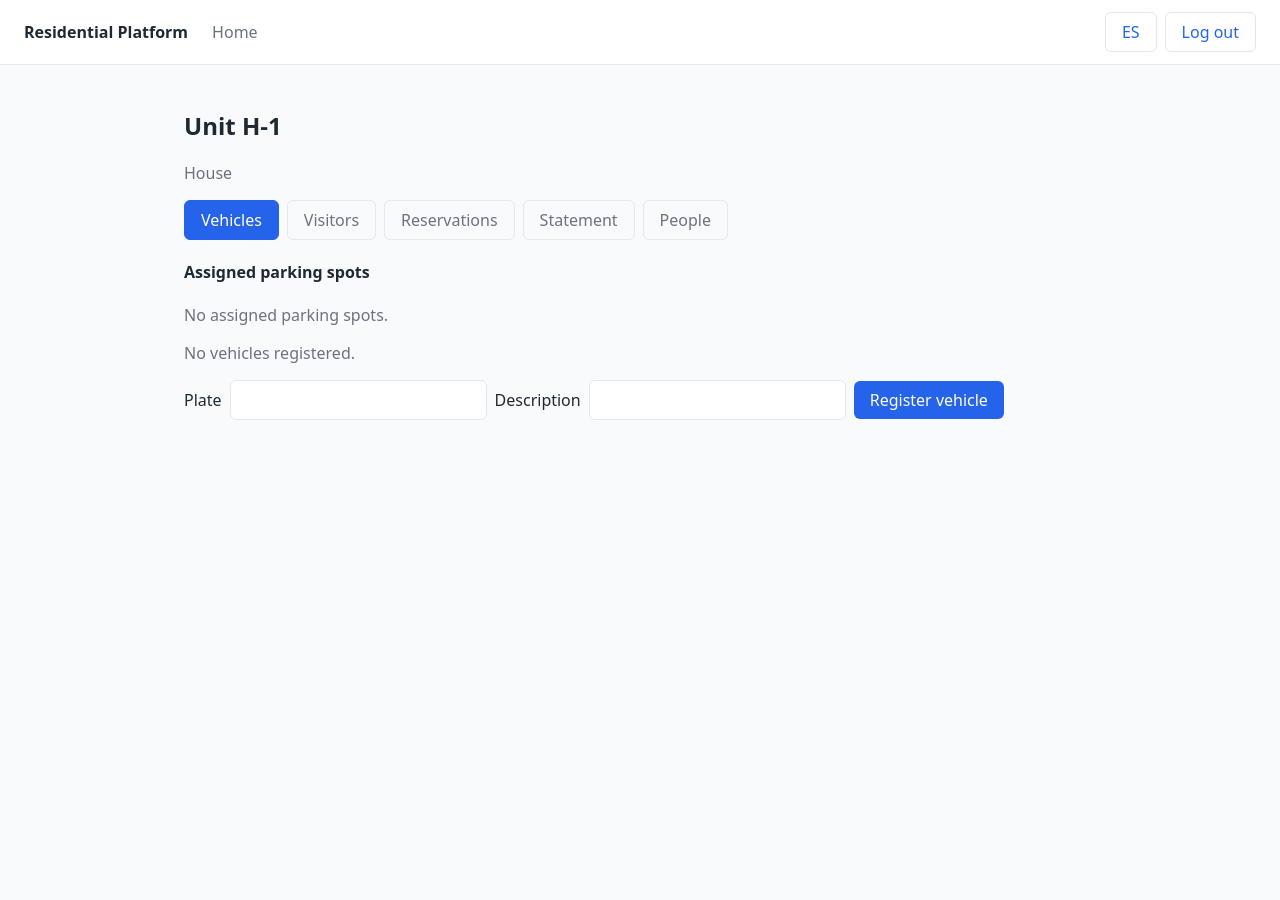
Test case: unit page › books an area slot
Click the tab "Reservations" at (449, 220), box [384, 200, 515, 240]
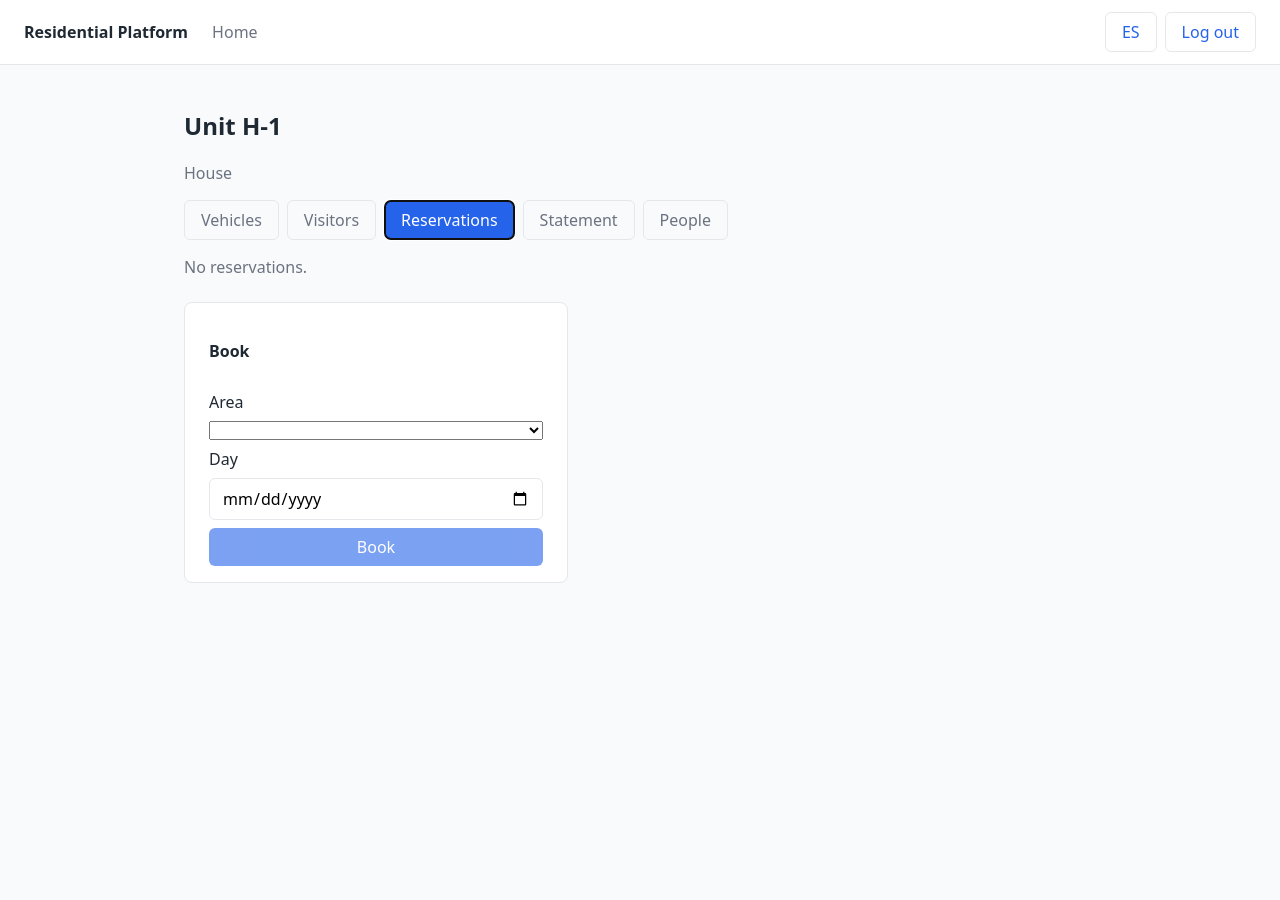
Select "Pool · GTQ 50.00" in the dropdown labelled "Area" at (376, 431), box [209, 421, 543, 440]
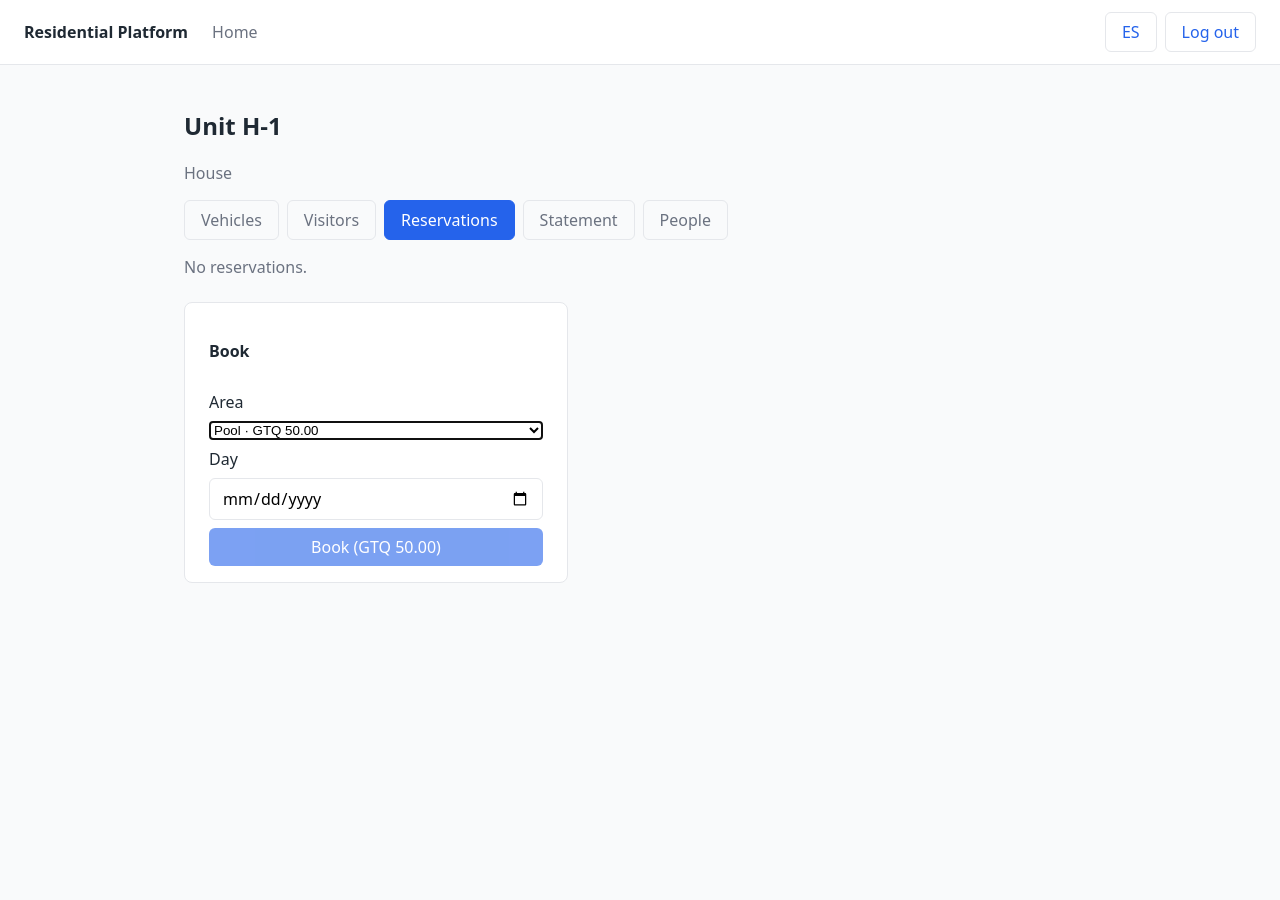
Type "2026-07-20" into the date field labelled "Day" at (376, 499), box [209, 478, 543, 520]
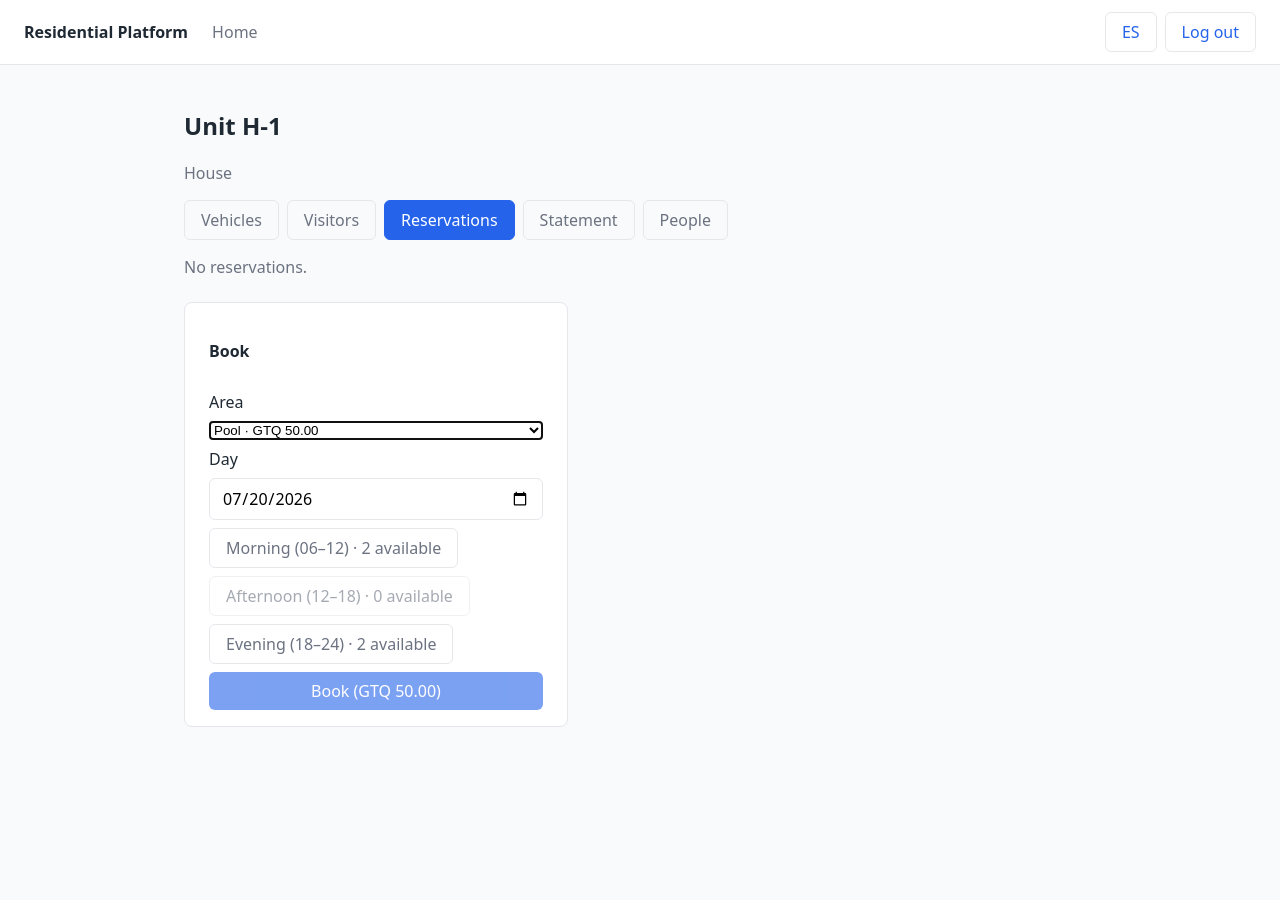
Now the radio button labelled "Afternoon (12–18) · 0 available" is disabled, box [209, 576, 470, 616]
Click the radio button labelled "Morning (06–12) · 2 available" at (334, 548), box [209, 528, 458, 568]
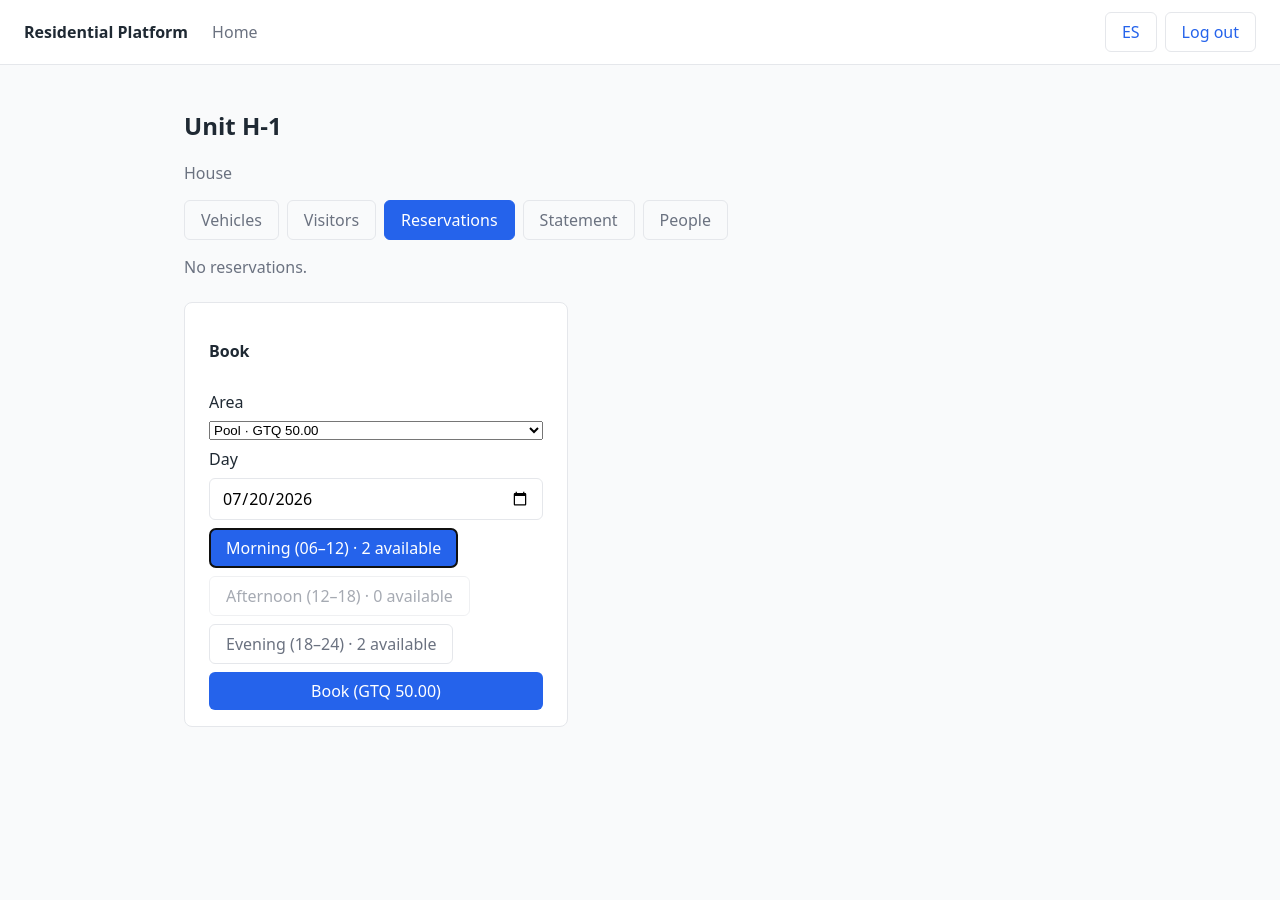
Click the button "Book (GTQ 50.00)" at (376, 691), box [209, 672, 543, 710]
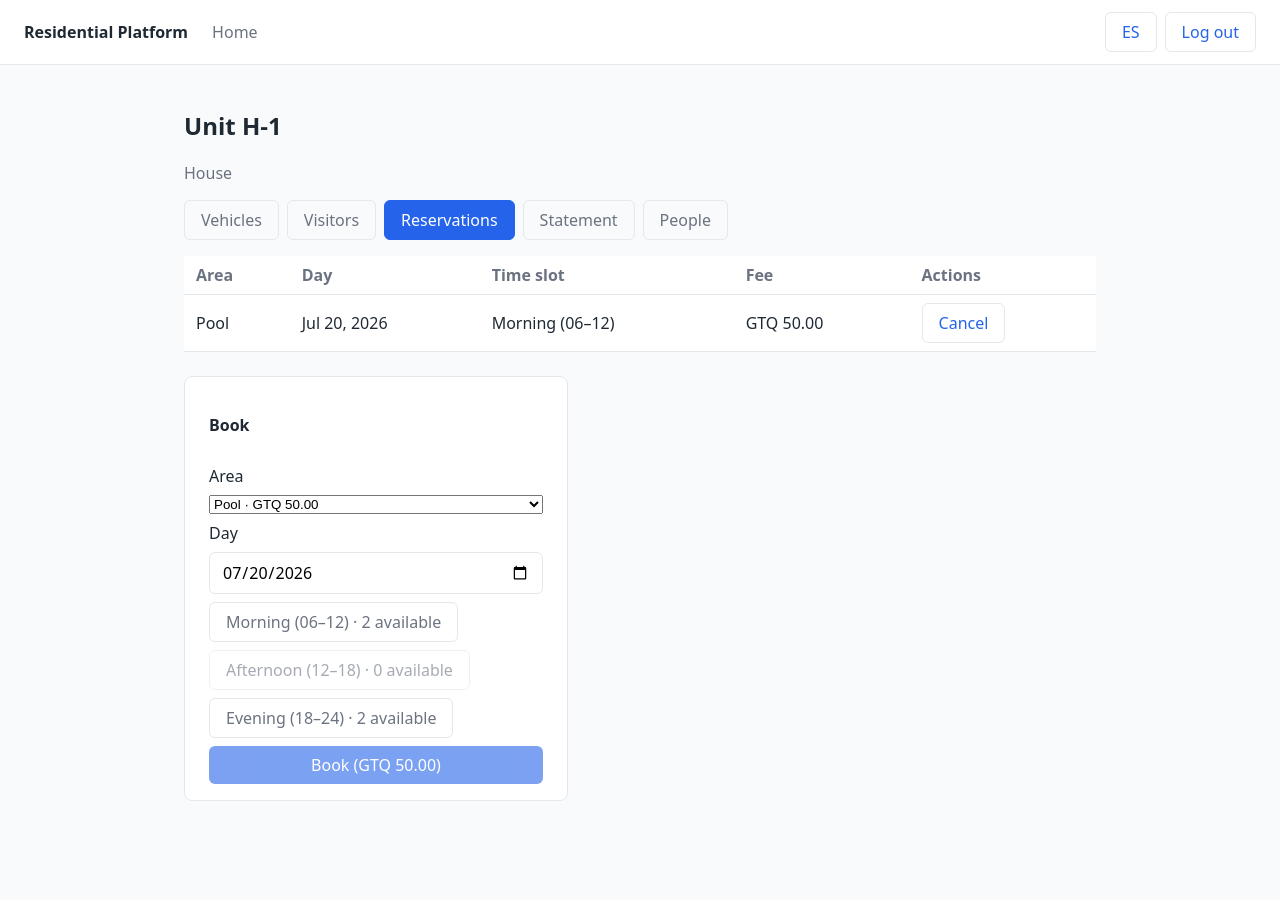
Now the text "Morning (06–12)" is shown, box [480, 294, 734, 351]
